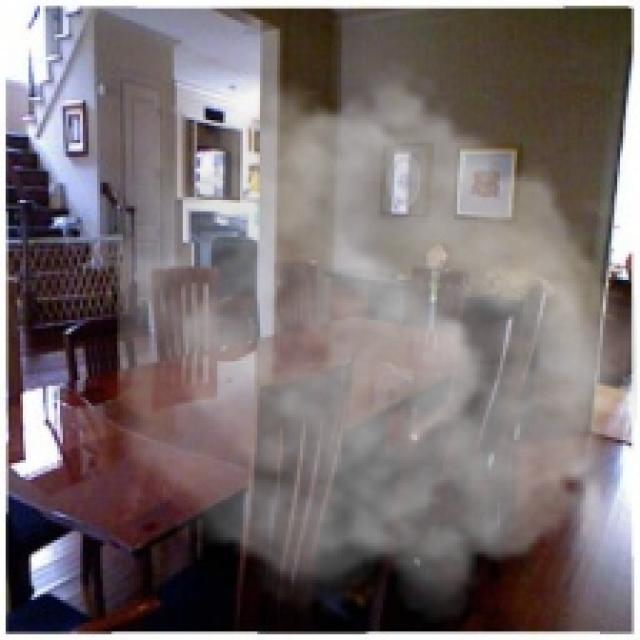smoke: (117, 57, 637, 623)
